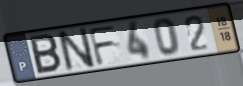0: (151, 16, 183, 58)
2: (184, 14, 211, 53)
4: (126, 18, 153, 63)
B: (28, 33, 64, 77)
F: (86, 23, 119, 68)
N: (54, 25, 98, 74)
